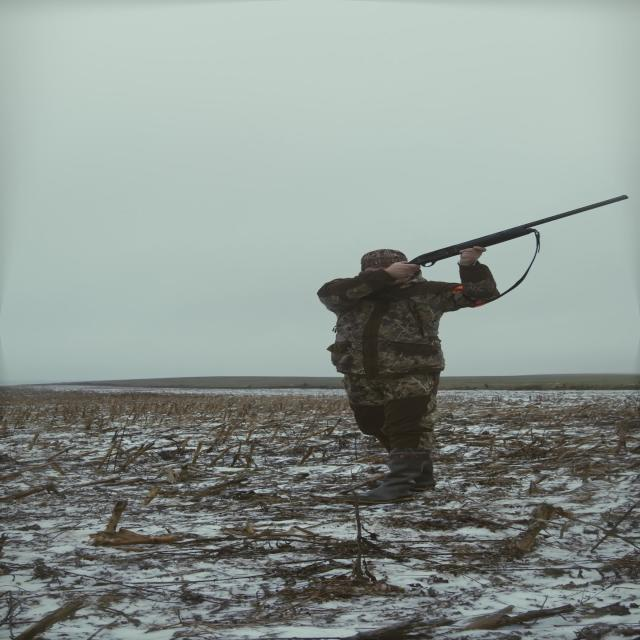poacher: (314, 218, 520, 496)
weapon: (418, 197, 631, 272)
